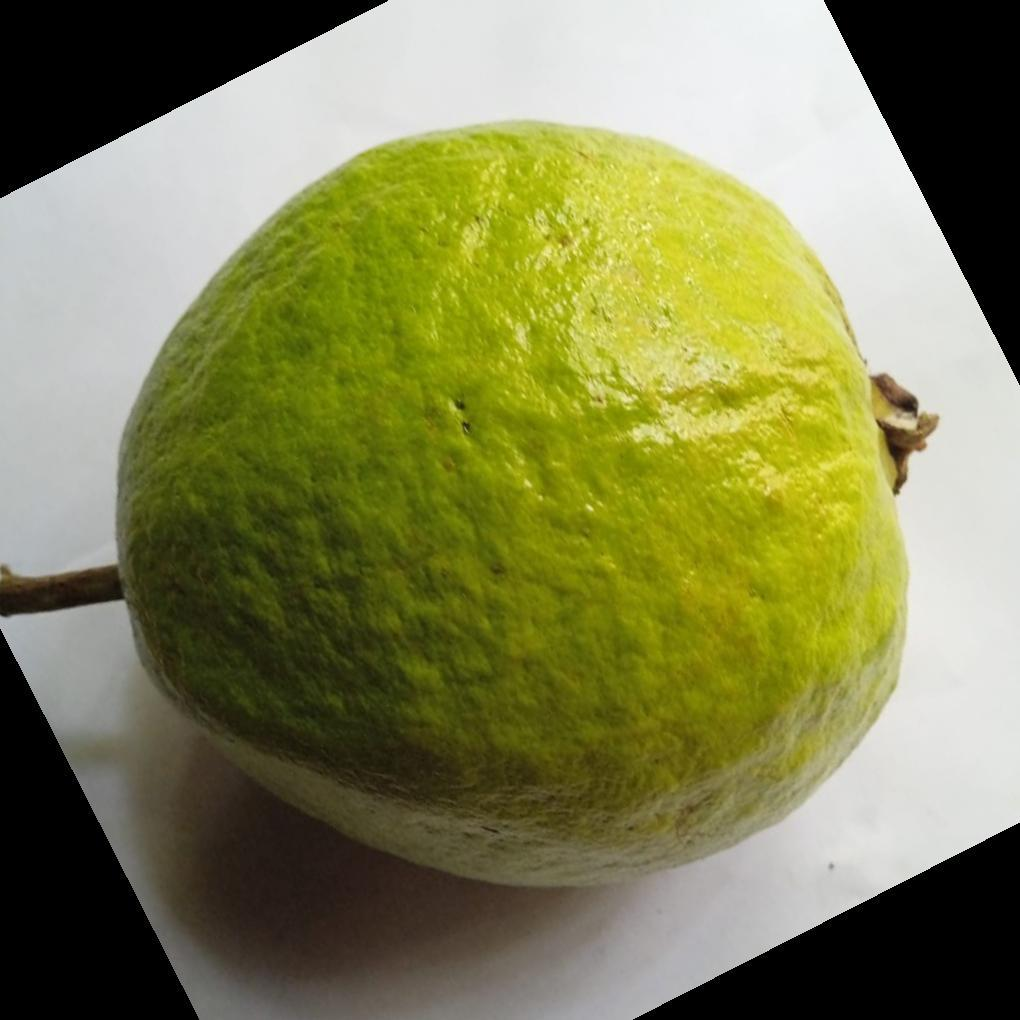FreshGuava: (114, 121, 930, 893)
